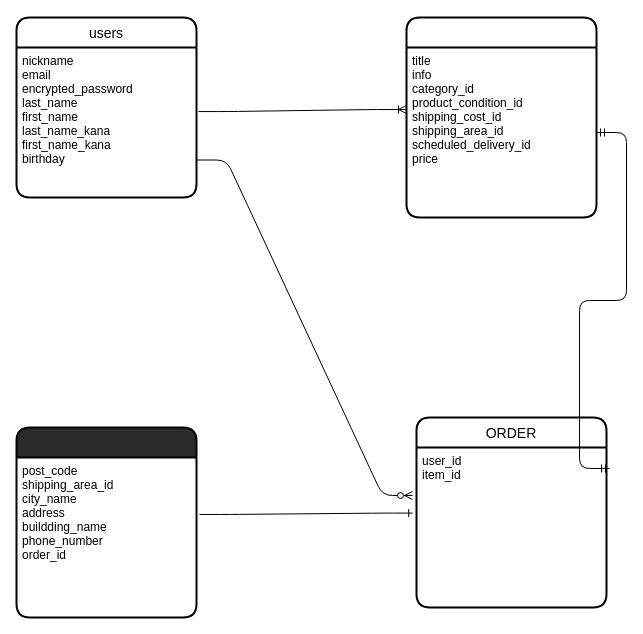
The diagram is 643 pixels wide and 634 high, and some of its shapes have lost their labels. Each missing label, with the box of its shape:
addresses: (15, 426, 197, 618)
ITEMS: (405, 16, 597, 218)
